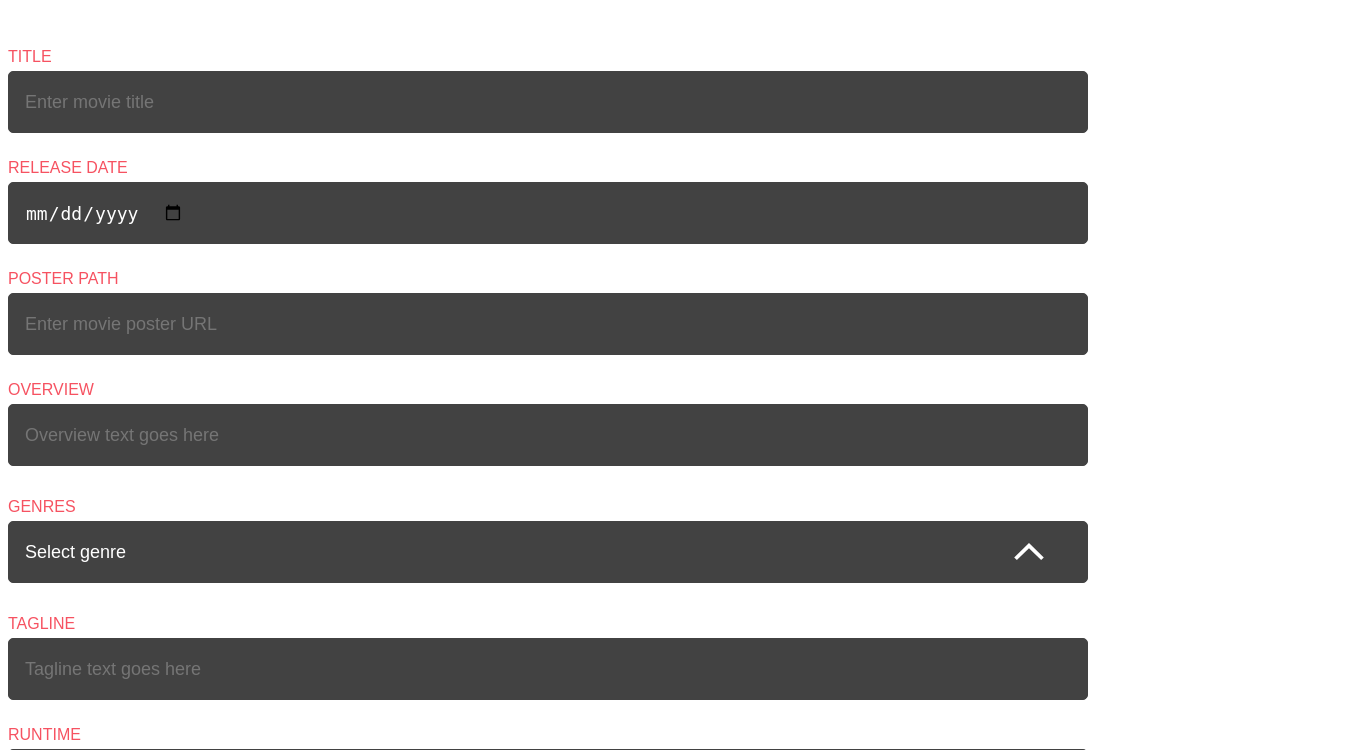
Test case: Add movie › with invalid inputs › renders the invalid poster url error
Type "invalid url" into the field labelled "poster path" at (548, 324), box [8,293,1088,355]
(page scrolled)
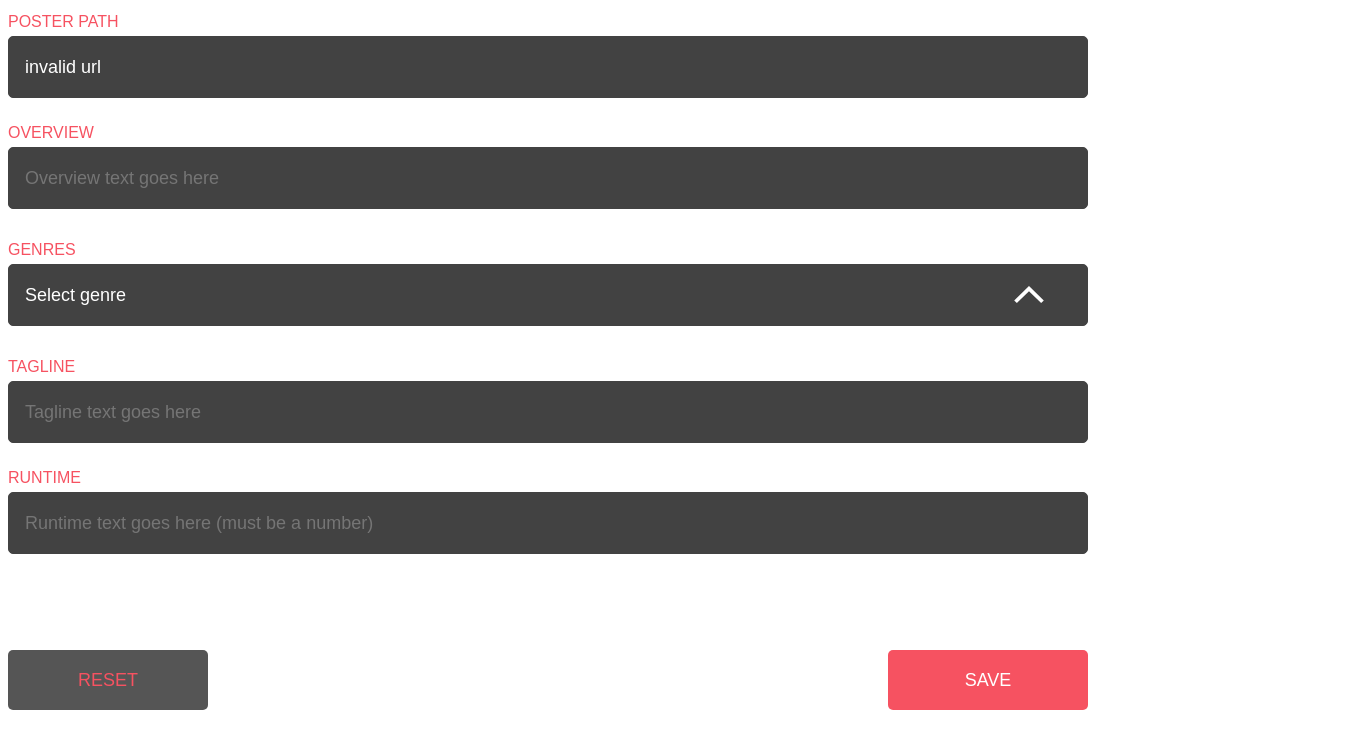
Click the button "save" at (988, 680), box [888,650,1088,710]
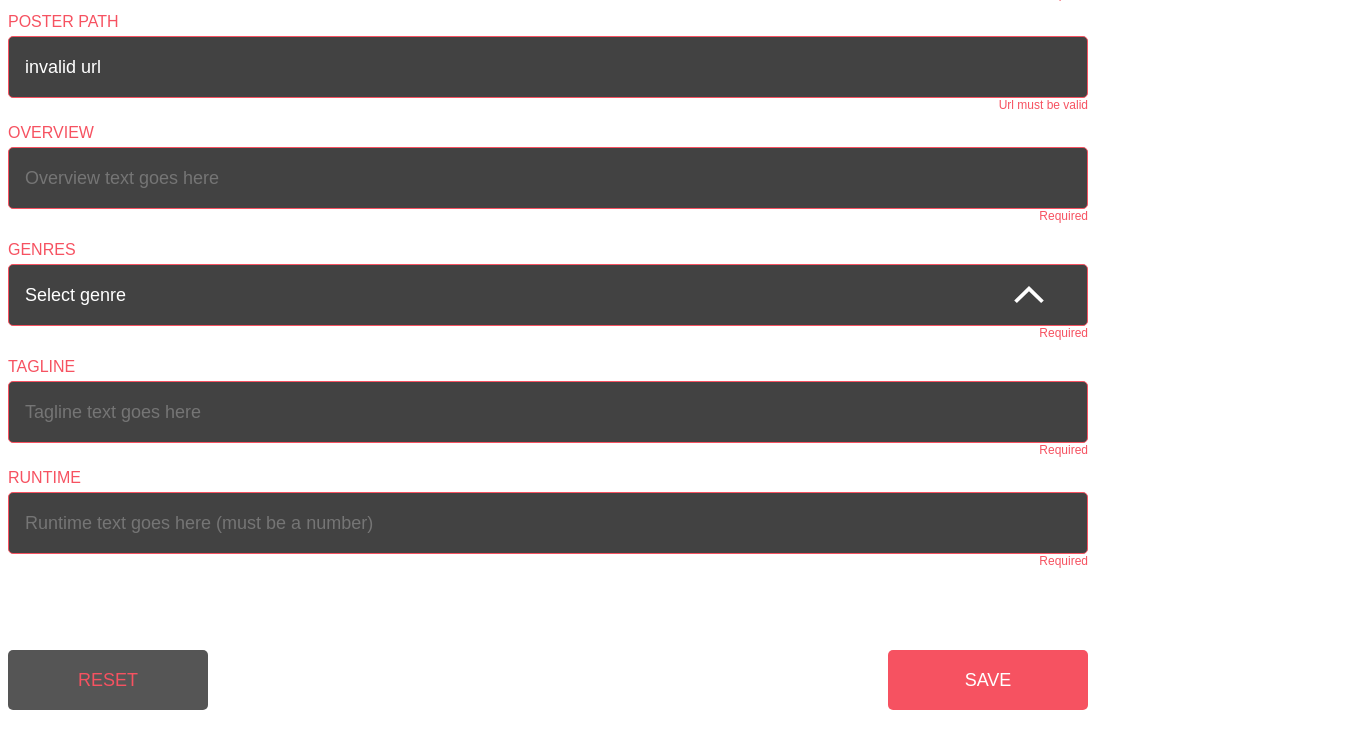
Expected: the text "Url must be valid" is shown, [999,98,1088,112]
